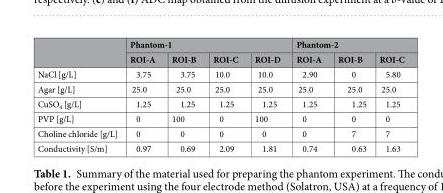table: (36, 37, 403, 154)
table column: (36, 37, 123, 154), (329, 37, 372, 154), (162, 37, 204, 154), (245, 37, 287, 154), (287, 37, 329, 154), (204, 37, 245, 154), (123, 37, 162, 154), (372, 37, 403, 154)
table column header: (36, 37, 403, 66)
table row: (36, 95, 403, 111), (36, 51, 403, 66), (36, 66, 403, 81), (36, 125, 403, 140), (36, 37, 403, 51), (36, 81, 403, 95), (36, 111, 403, 125), (36, 140, 403, 154)
table spanning cell: (123, 37, 287, 51), (287, 37, 403, 51)
